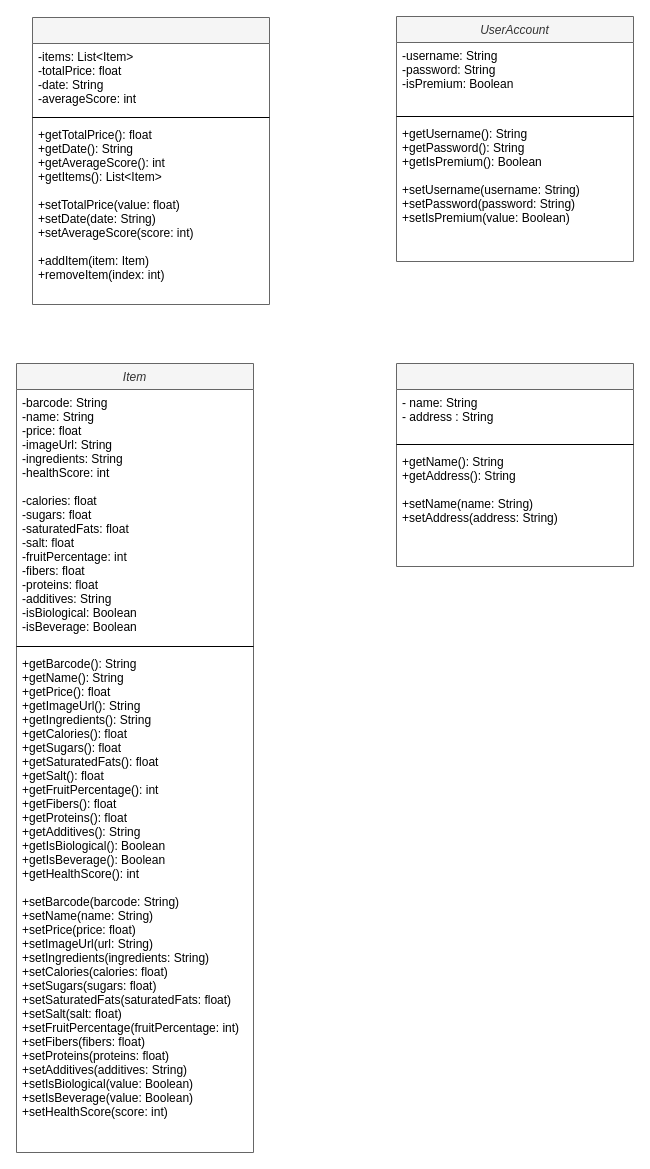
Image size: 650x1169. Some labels were removed from this diagram. Each missing label, with the box of its shape:
Cart: (32, 16, 270, 304)
Supermarket: (396, 362, 634, 566)
